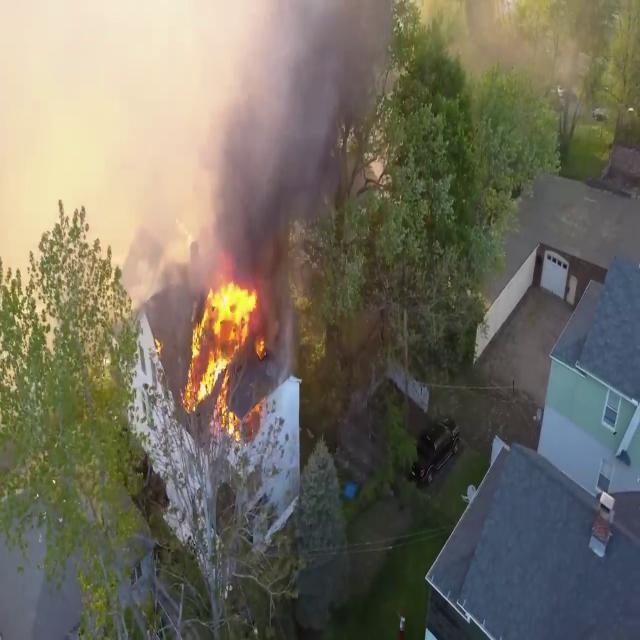Fire: (182, 273, 268, 430)
Smoke: (186, 1, 390, 280)
